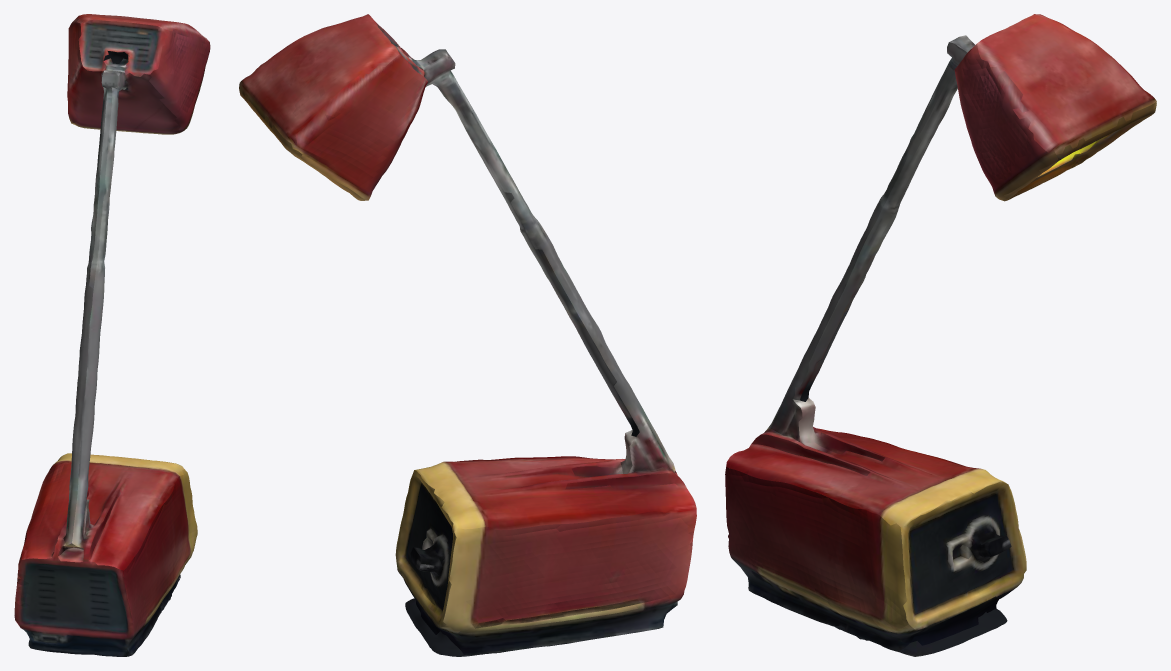
Rendered from lamp.glb.
3 renders of one model, left to right at view 1: azimuth 30°, elevation 25°; view 2: azimuth 150°, elevation 25°; view 3: azimuth 270°, elevation 25°, orthographic. The views are drawn at different scales.
Parts seen in each view (by area): view 1: Object; view 2: Object; view 3: Object.
Boxes of the visible parts, bbox=[...] form: Object: bbox=[14, 14, 210, 656]; Object: bbox=[239, 14, 696, 656]; Object: bbox=[725, 14, 1156, 656].
Bounding box in the file's own units: 0.3216 × 0.5595 × 0.3496.
Materials: 1 (1 with a texture image).
